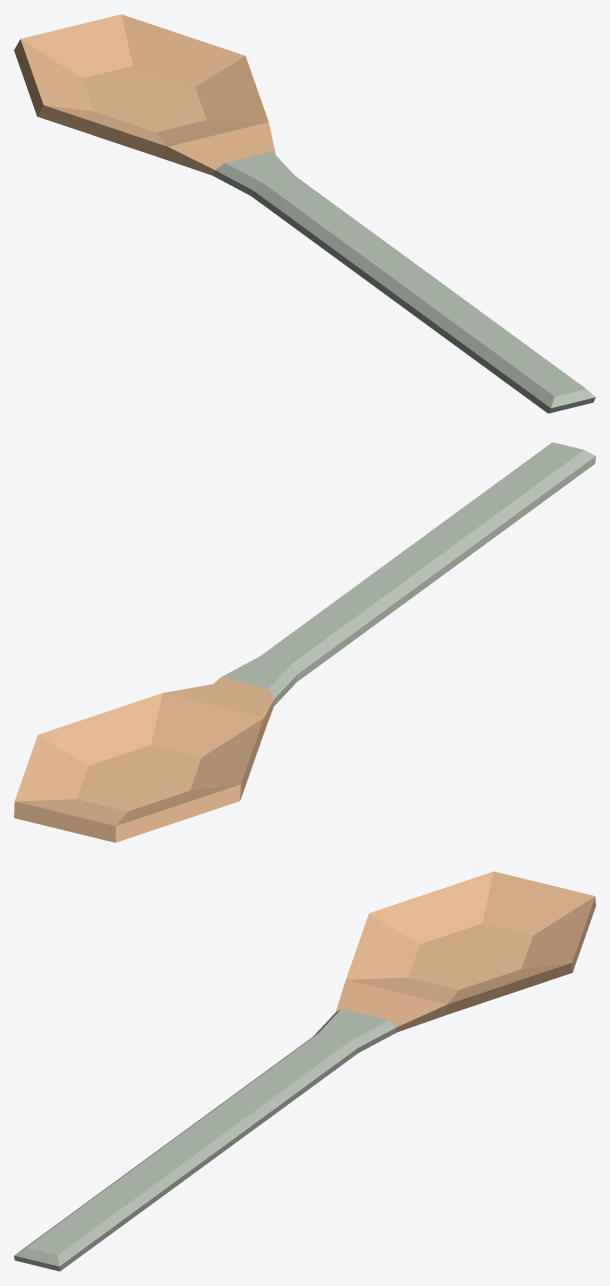
The model's file is planche cuillere.fbx.
3 renders of one model, top to bottom at view 1: azimuth 30°, elevation 25°; view 2: azimuth 150°, elevation 25°; view 3: azimuth 330°, elevation 25°, orthographic.
Parts seen in each view (by area): view 1: entrepot dechets 6.003; view 2: entrepot dechets 6.003; view 3: entrepot dechets 6.003.
Boxes of the visible parts, <box> form: entrepot dechets 6.003: <box>14,14,595,413</box>; entrepot dechets 6.003: <box>14,442,595,842</box>; entrepot dechets 6.003: <box>14,871,595,1271</box>.
Size of the model in its own units: 206 by 30.69 by 883.
